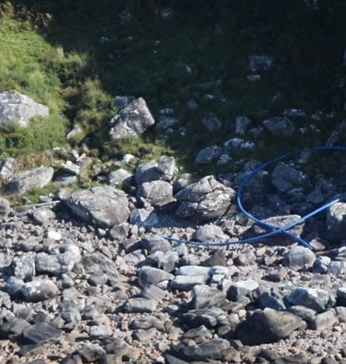tube: (234, 140, 346, 240), (161, 220, 267, 251)
